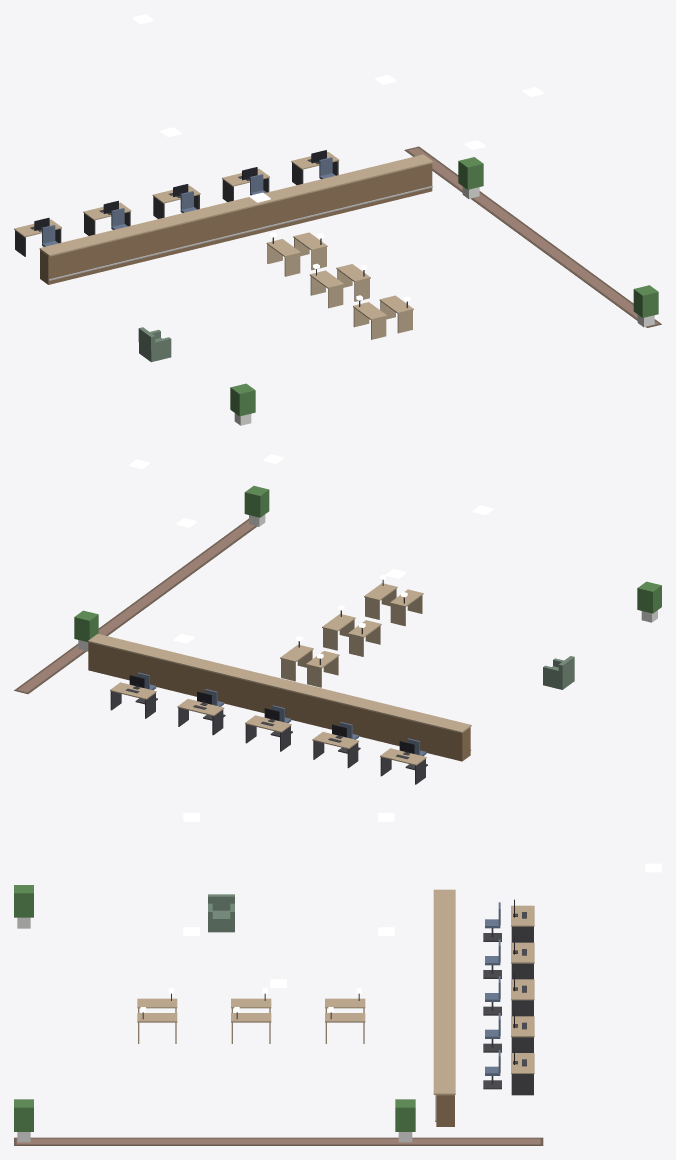
File: fine-s0.glb
3 renders of one model, top to bottom at view 1: azimuth 30°, elevation 25°; view 2: azimuth 150°, elevation 25°; view 3: azimuth 270°, elevation 25°, orthographic. The views are drawn at different scales.
Parts seen in each view (by area): view 1: soft-s0, bar-counter.000, bar-counter.003, bar-counter.002, bar-counter.004, bar-counter.008, bar-counter.009, bar-counter.010, bar-counter.005, bar-counter.007, bar-counter.011, bar-counter.001 (+16 smaller); view 2: soft-s0, bar-counter.000, bar-counter.002, bar-counter.011, bar-counter.009, bar-counter.004, bar-counter.007, bar-counter.006, bar-counter.005, bar-counter.003, bar-counter.008, bar-counter.010 (+16 smaller); view 3: soft-s0, bar-counter.011, sofa.000, office-desk-real.004, office-desk-real.000, office-desk-real.001, office-desk-real.002, office-desk-real.003, plant-tall.002, plant-tall.000, plant-tall.001, writing-desk.001 (+5 smaller).
Part boxes in pixels (x1=…): soft-s0: x1=404, y1=146, x2=661, y2=327; bar-counter.000: x1=39, y1=240, x2=81, y2=284; bar-counter.003: x1=136, y1=217, x2=177, y2=261; bar-counter.002: x1=104, y1=224, x2=145, y2=269; bar-counter.004: x1=168, y1=209, x2=209, y2=253; bar-counter.008: x1=296, y1=178, x2=337, y2=222; bar-counter.009: x1=328, y1=170, x2=369, y2=214; bar-counter.010: x1=360, y1=162, x2=401, y2=206; bar-counter.005: x1=200, y1=201, x2=241, y2=245; bar-counter.007: x1=264, y1=185, x2=305, y2=230; bar-counter.011: x1=392, y1=154, x2=433, y2=198; bar-counter.001: x1=72, y1=232, x2=113, y2=276; soft-s0: x1=14, y1=518, x2=257, y2=693; bar-counter.000: x1=430, y1=717, x2=471, y2=761; bar-counter.002: x1=368, y1=702, x2=408, y2=746; bar-counter.011: x1=88, y1=634, x2=128, y2=677; bar-counter.009: x1=150, y1=649, x2=190, y2=692; bar-counter.004: x1=306, y1=687, x2=346, y2=729; bar-counter.007: x1=212, y1=664, x2=252, y2=708; bar-counter.006: x1=244, y1=671, x2=284, y2=713; bar-counter.005: x1=275, y1=679, x2=315, y2=723; bar-counter.003: x1=337, y1=694, x2=377, y2=738; bar-counter.008: x1=181, y1=656, x2=221, y2=696; bar-counter.010: x1=119, y1=641, x2=159, y2=684; soft-s0: x1=14, y1=1137, x2=543, y2=1145; bar-counter.011: x1=433, y1=1076, x2=455, y2=1126; sofa.000: x1=208, y1=894, x2=234, y2=932; office-desk-real.004: x1=511, y1=1047, x2=534, y2=1095; office-desk-real.000: x1=511, y1=899, x2=534, y2=942; office-desk-real.001: x1=511, y1=936, x2=534, y2=979; office-desk-real.002: x1=511, y1=973, x2=534, y2=1016; office-desk-real.003: x1=511, y1=1010, x2=534, y2=1052; plant-tall.002: x1=395, y1=1099, x2=415, y2=1142; plant-tall.000: x1=14, y1=885, x2=33, y2=928; plant-tall.001: x1=14, y1=1099, x2=33, y2=1142; writing-desk.001: x1=325, y1=1007, x2=365, y2=1043.
Size of the model in its own units: 15.84 by 5.23 by 19.32.
